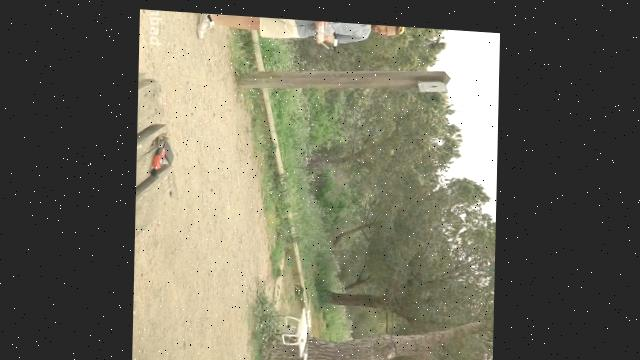drone: (283, 294, 316, 360)
